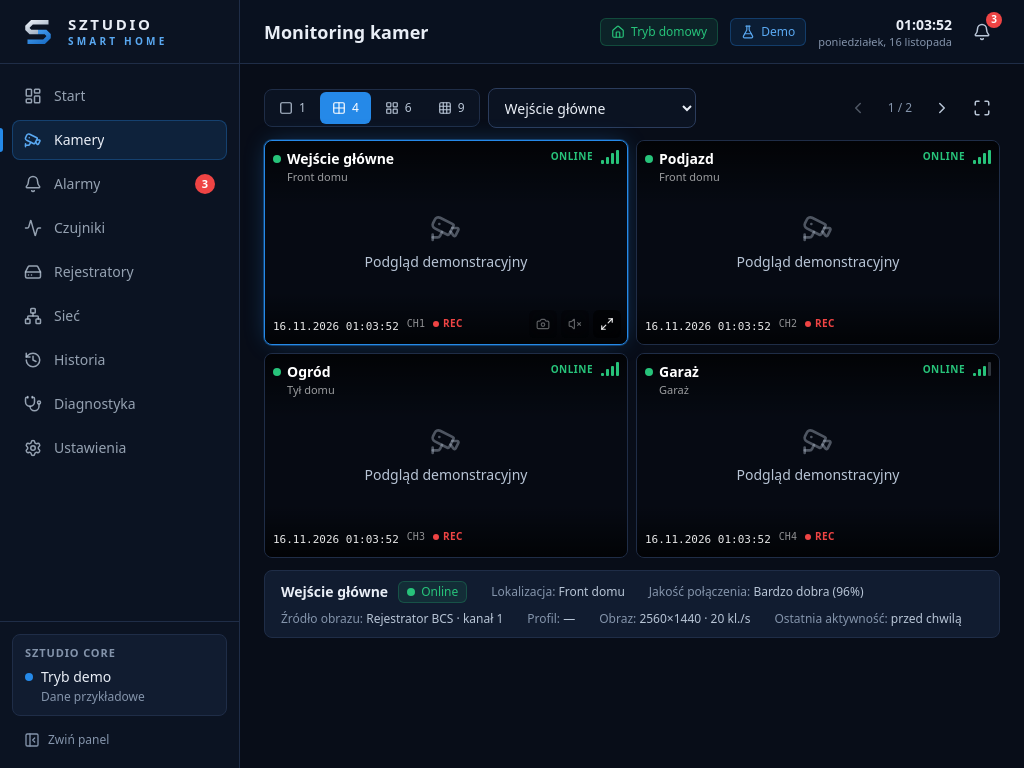
Test case: monitoring kamer › przełącza układy i powiększa wybraną kamerę
Later steps or results of the test are not shown.
Step 1. Click the button named "Widok 9 kamer" → (451, 108), box [426, 92, 476, 124]
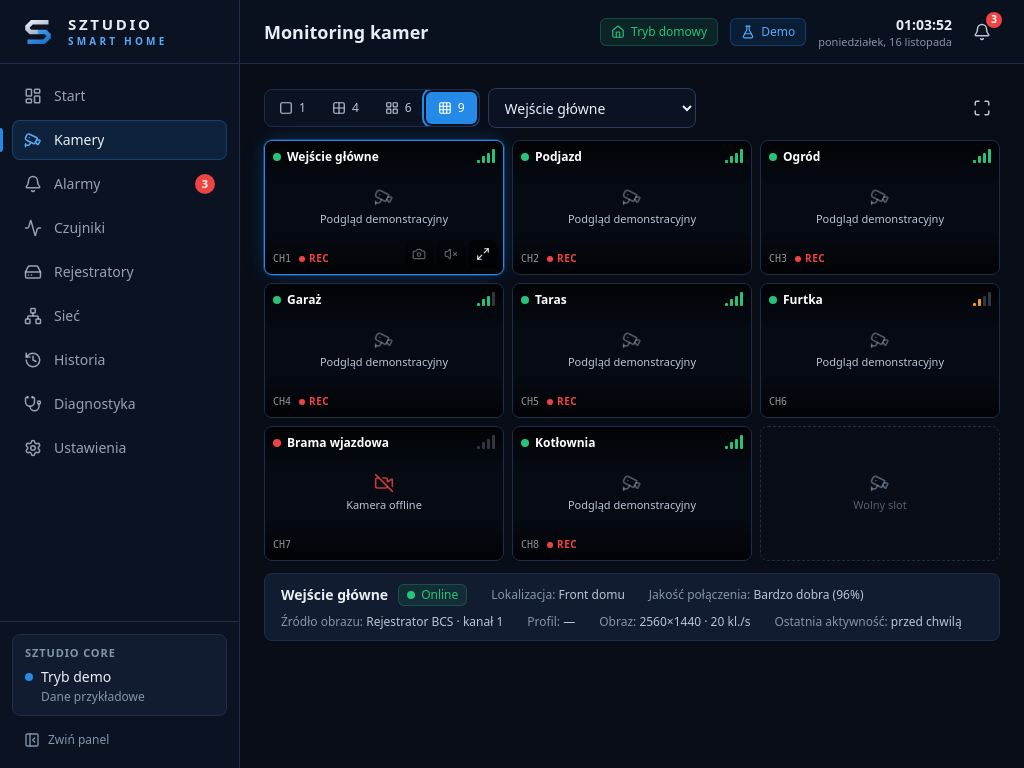
Expected: the text "Wolny slot" is shown once, [853, 497, 907, 514]
Step 2. Click the button named "Widok 1 kamery" → (292, 108), box [267, 92, 318, 124]
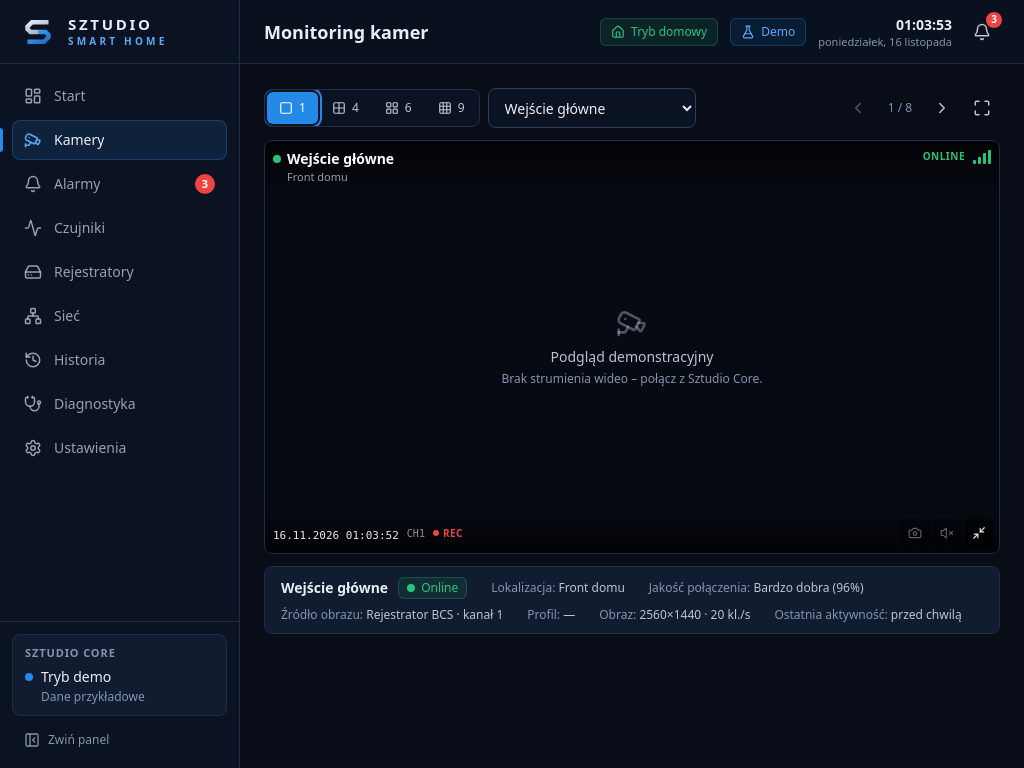
Step 3. Select "Ogród" in the dropdown named "Wybór kamery" → (592, 108), box [488, 88, 696, 128]
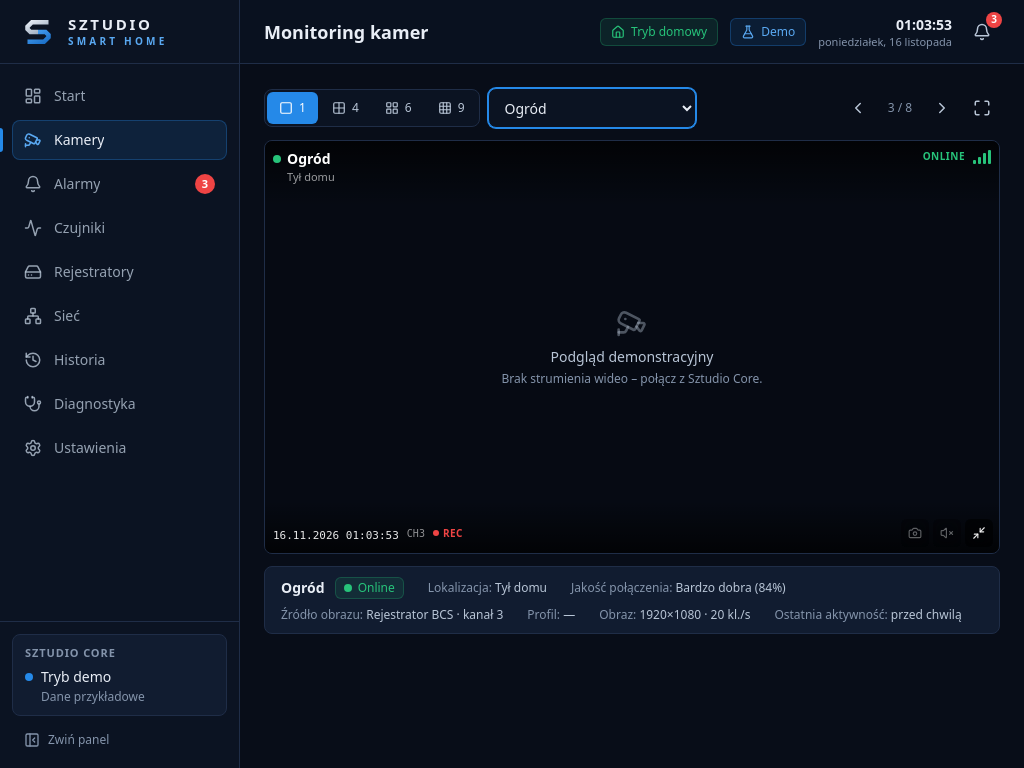
Expected: the element named "Kamera Ogród" is shown, [264, 140, 1000, 554]
Step 4. Click the button named "Następna kamera" → (942, 108), box [924, 90, 960, 126]
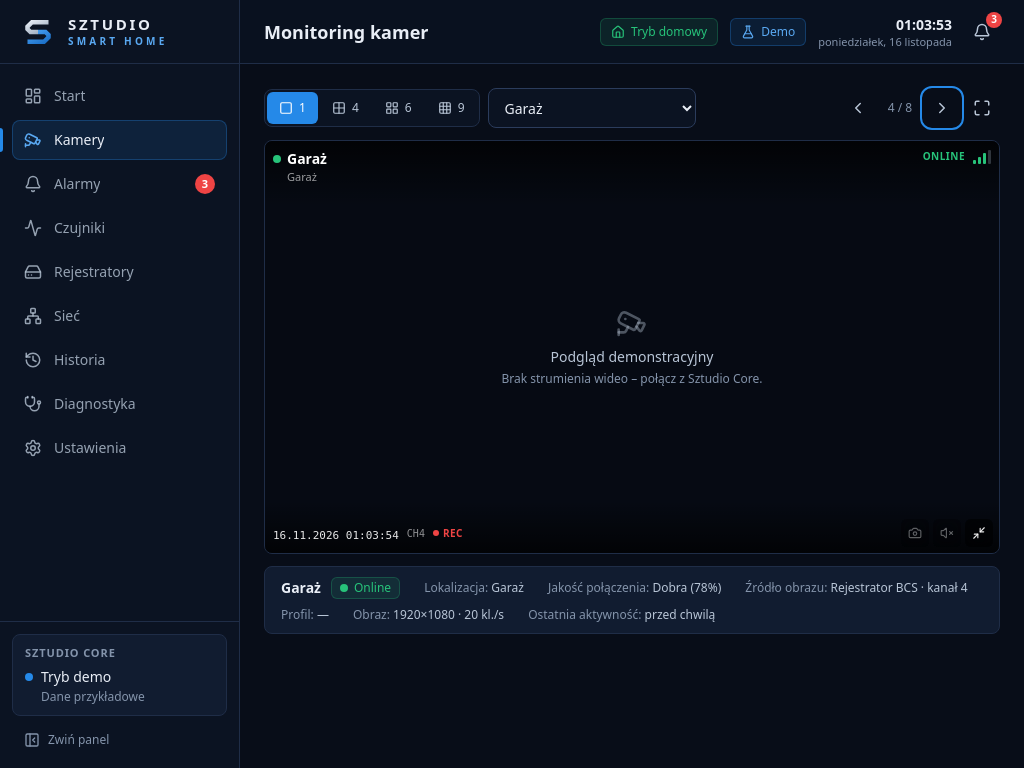
Expected: the element named "Kamera Garaż" is shown, [264, 140, 1000, 554]
